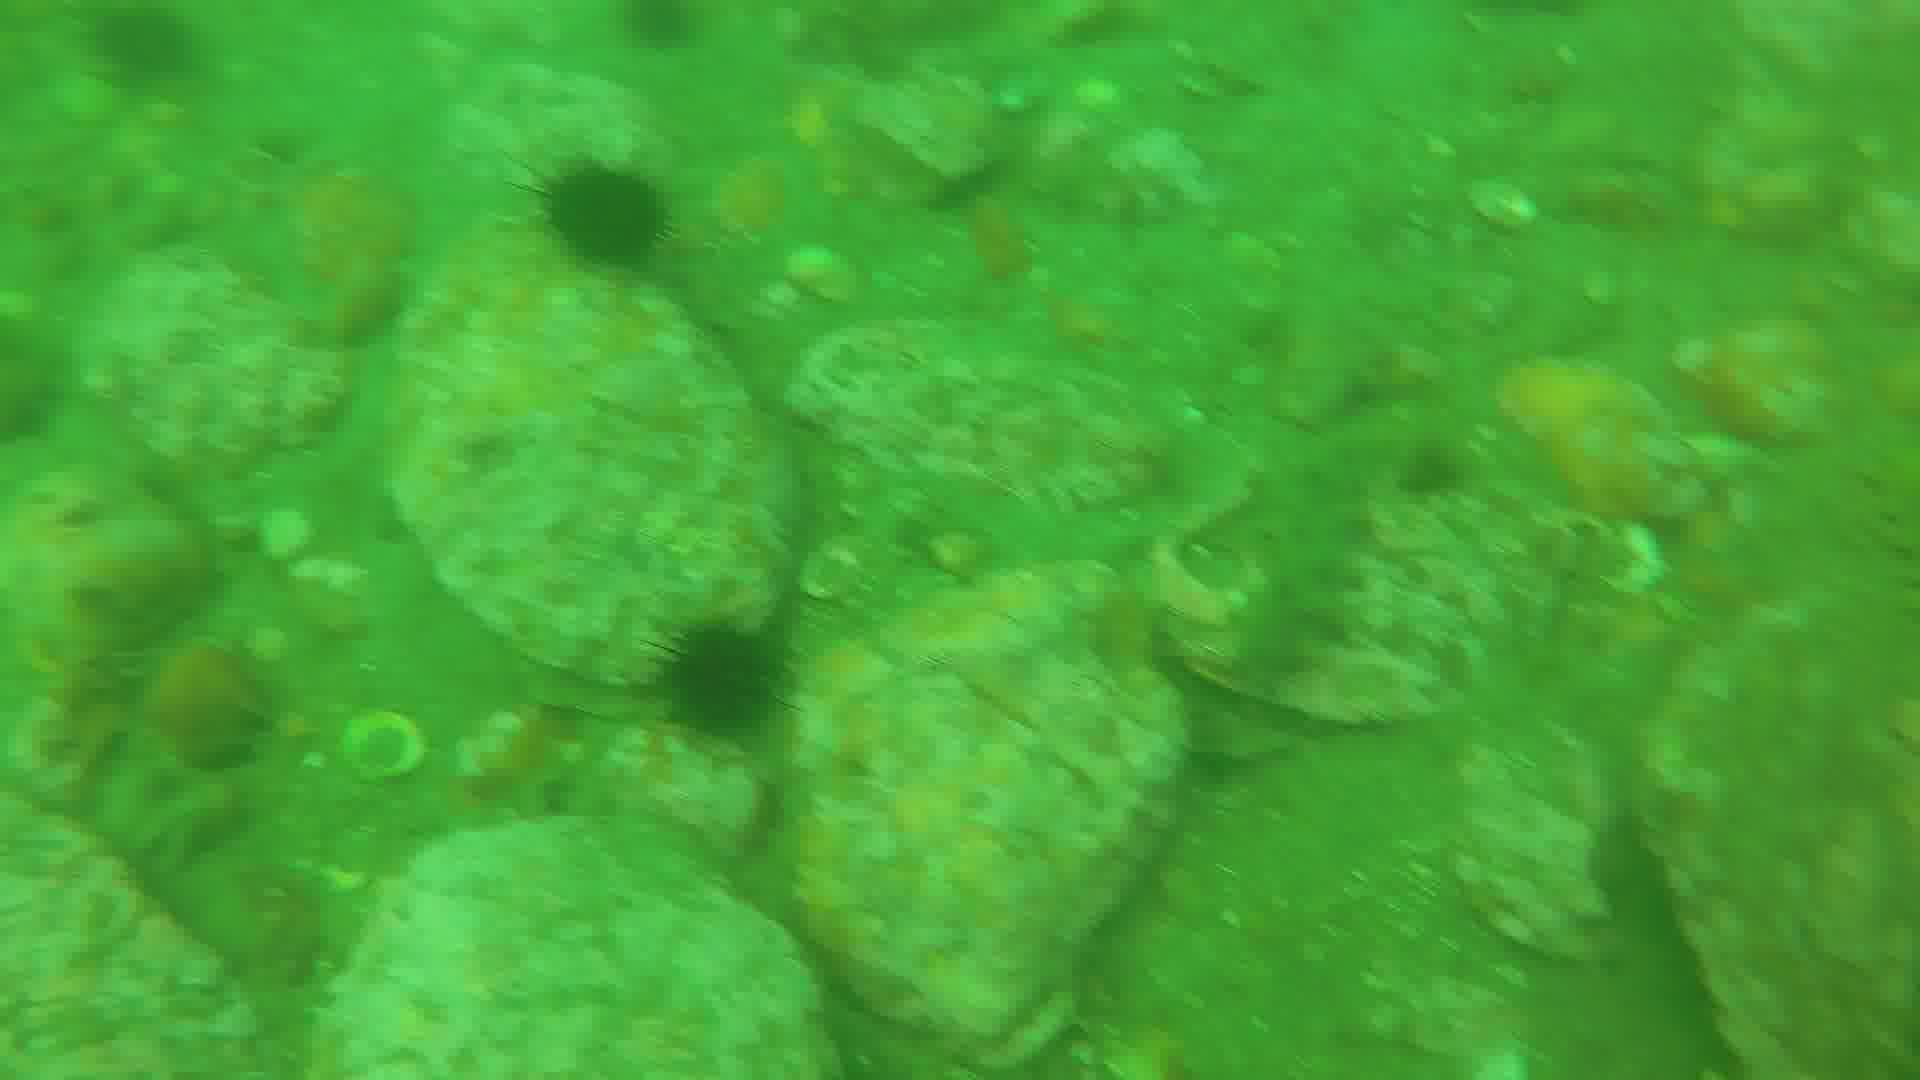echinus: (653, 621, 785, 736), (541, 161, 669, 266), (622, 1, 702, 53)
